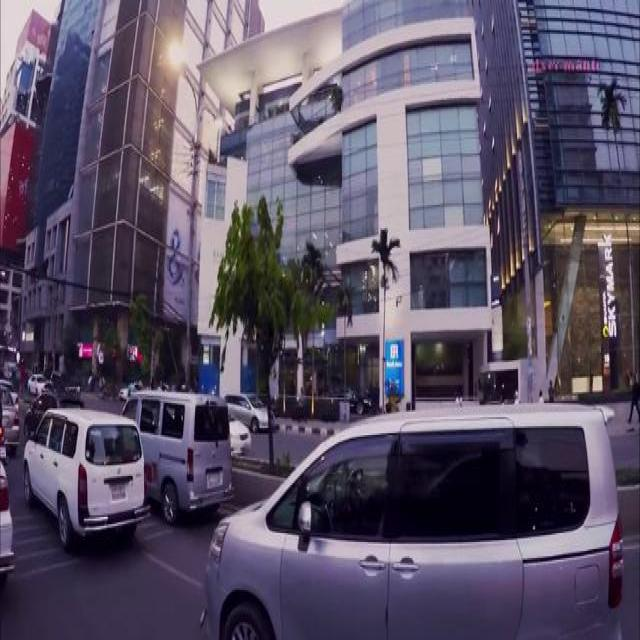car: (22, 405, 144, 538), (223, 390, 274, 428), (0, 382, 21, 448), (229, 411, 251, 454), (26, 370, 44, 391)
minivan: (202, 401, 624, 637), (121, 384, 231, 513)
